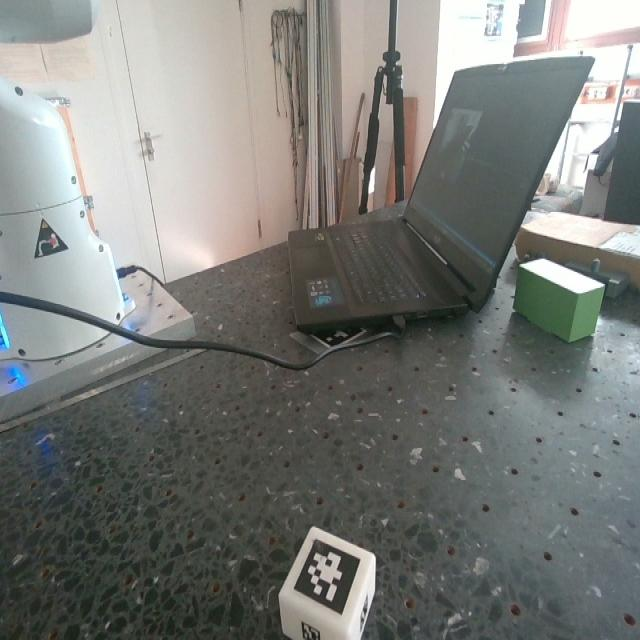Cube: (276, 525, 380, 639)
